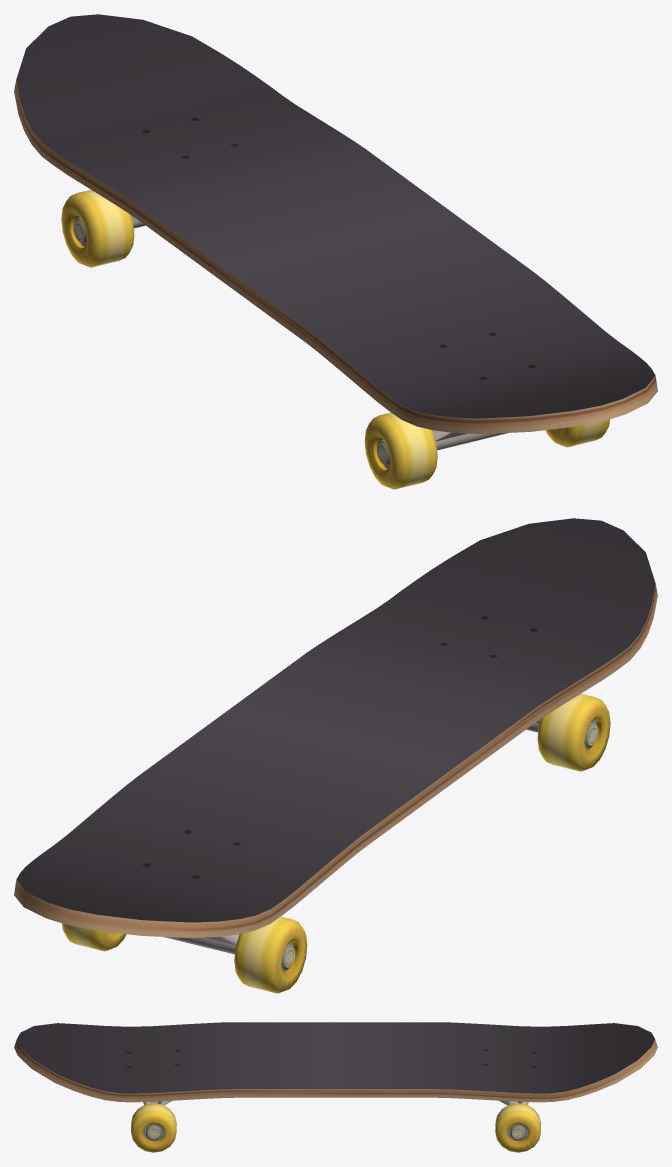
Rendered from Skateboard.fbx.
The picture shows the model from 3 angles, top to bottom: view 1: azimuth 30°, elevation 25°; view 2: azimuth 150°, elevation 25°; view 3: azimuth 270°, elevation 25°; orthographic projection. The views are drawn at different scales.
Visible parts, largest first — view 1: Pp_Skatebboard_001; view 2: Pp_Skatebboard_001; view 3: Pp_Skatebboard_001.
Part boxes in pixels (<box>): Pp_Skatebboard_001: <box>14,14,657,489</box>; Pp_Skatebboard_001: <box>14,518,657,993</box>; Pp_Skatebboard_001: <box>14,1022,657,1152</box>.
Bounding box in the file's own units: 0.2018 × 0.1184 × 0.8202.
